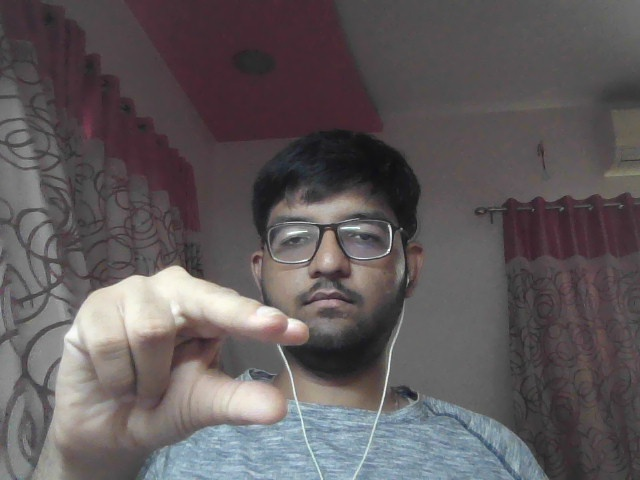ના: (40, 246, 332, 463)
